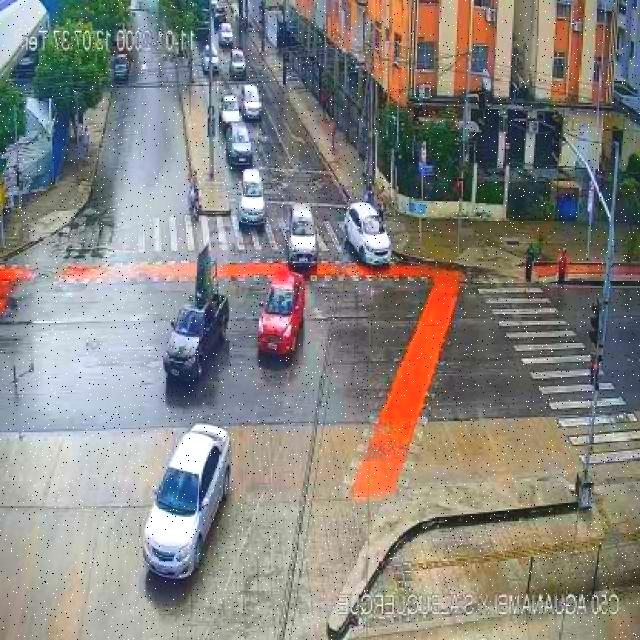Car: (142, 422, 232, 584), (163, 292, 230, 383), (257, 268, 307, 358), (343, 202, 392, 266), (286, 204, 317, 268), (238, 168, 266, 225), (225, 121, 254, 167), (240, 84, 262, 121), (219, 93, 242, 127), (228, 48, 248, 79), (201, 45, 220, 74), (112, 55, 130, 83), (218, 22, 234, 48), (213, 2, 227, 28)
